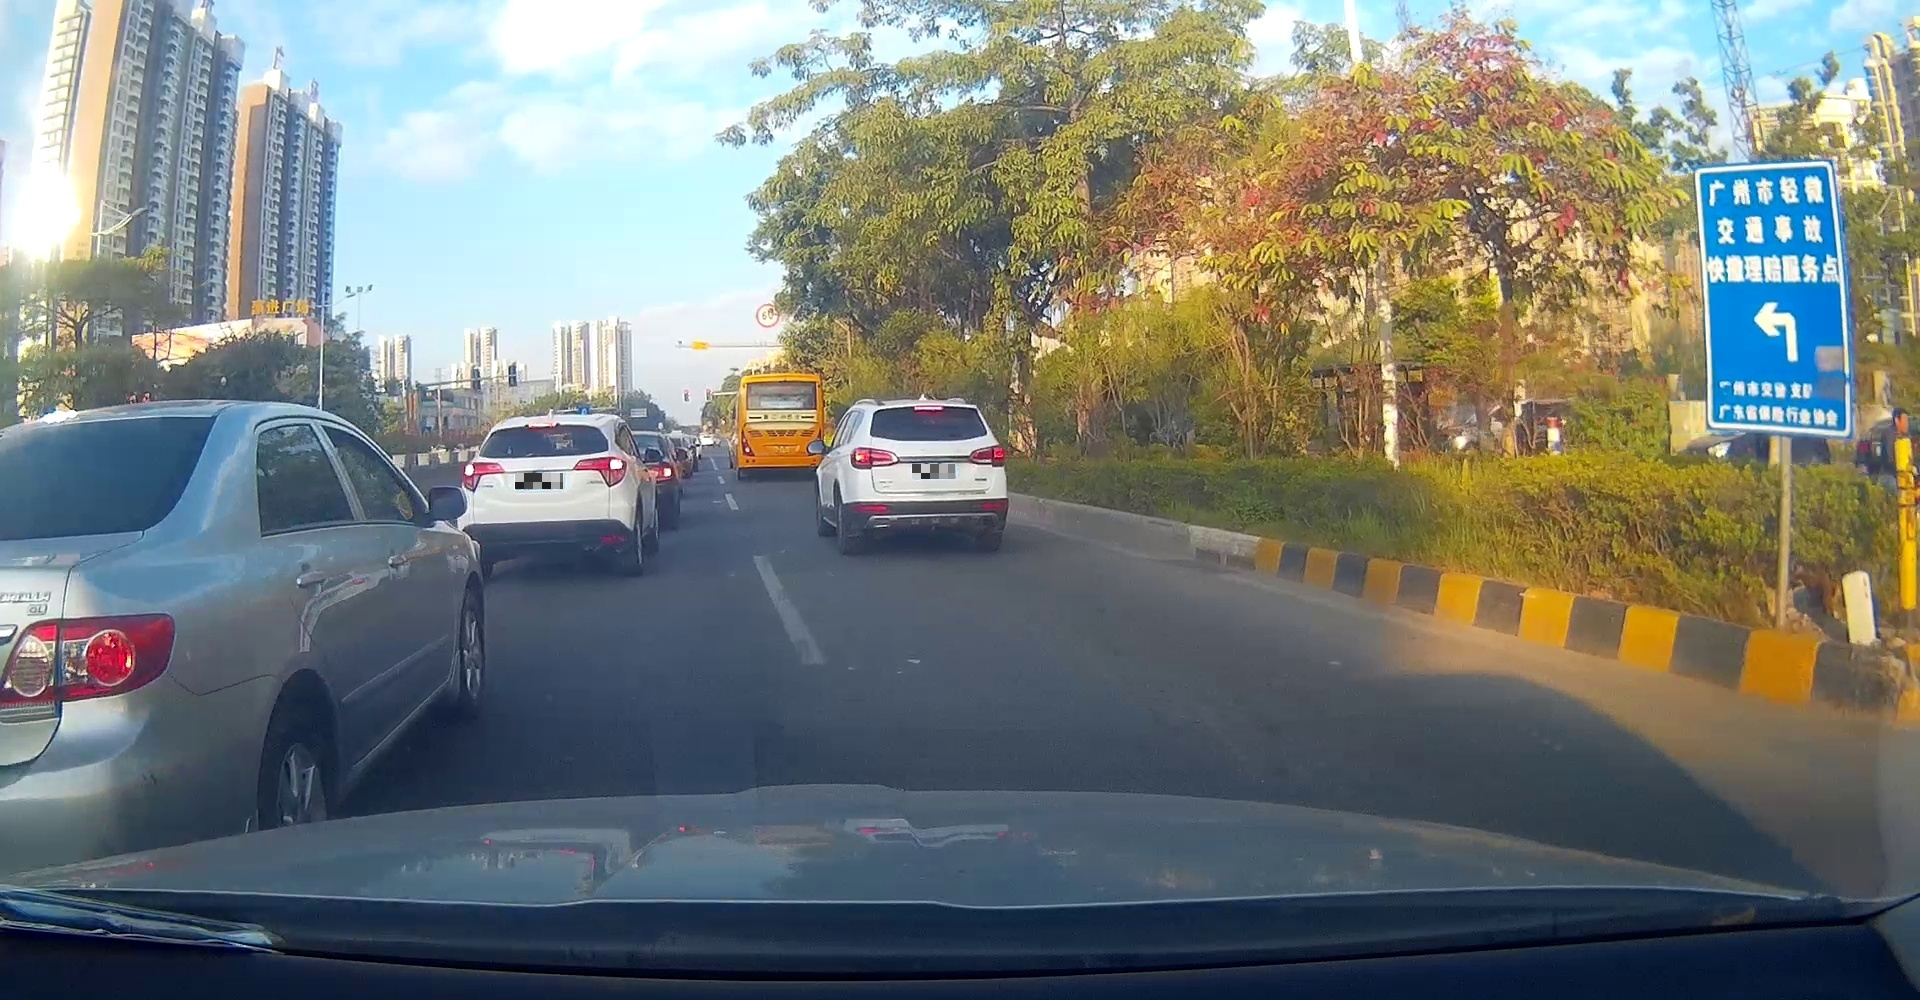L_light: (462, 461, 505, 492), (850, 448, 900, 470)
R_light: (571, 456, 627, 487), (969, 445, 1004, 467)
T_light: (528, 425, 559, 431), (914, 406, 943, 411)
day-brake: (456, 414, 629, 577), (850, 400, 1010, 553)
plate_1: (516, 473, 563, 489)
plate_2: (912, 464, 955, 478)
